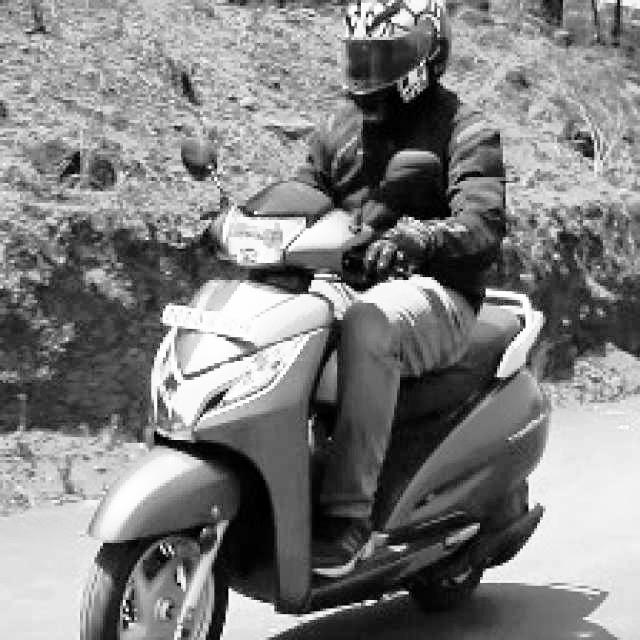Bike: (79, 173, 559, 639)
